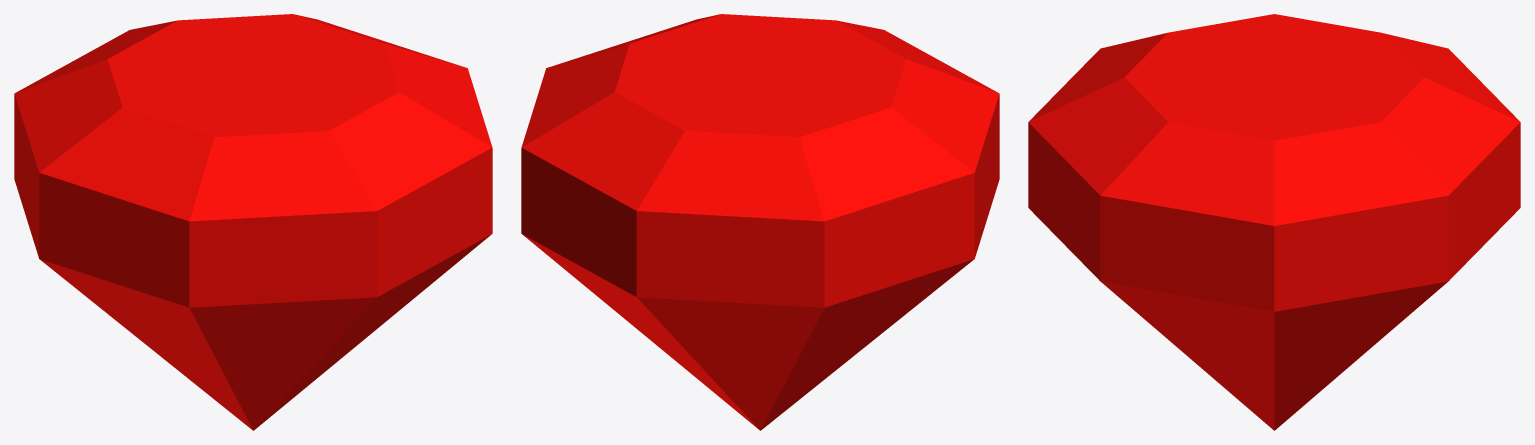
File: Gem.glb
3 views of the same model, side by side, from view 1: azimuth 30°, elevation 25°; view 2: azimuth 150°, elevation 25°; view 3: azimuth 270°, elevation 25° (orthographic).
Visible parts, largest first — view 1: Circle; view 2: Circle; view 3: Circle.
Part boxes in pixels (x1,y1,x2,y2): Circle: (14, 14, 492, 430); Circle: (521, 14, 999, 430); Circle: (1028, 14, 1520, 430).
Bounding box in the file's own units: 0.5 × 0.3962 × 0.5.
